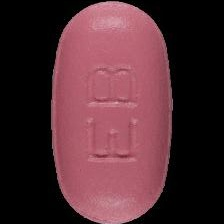21695-387: (0, 0, 224, 224)
